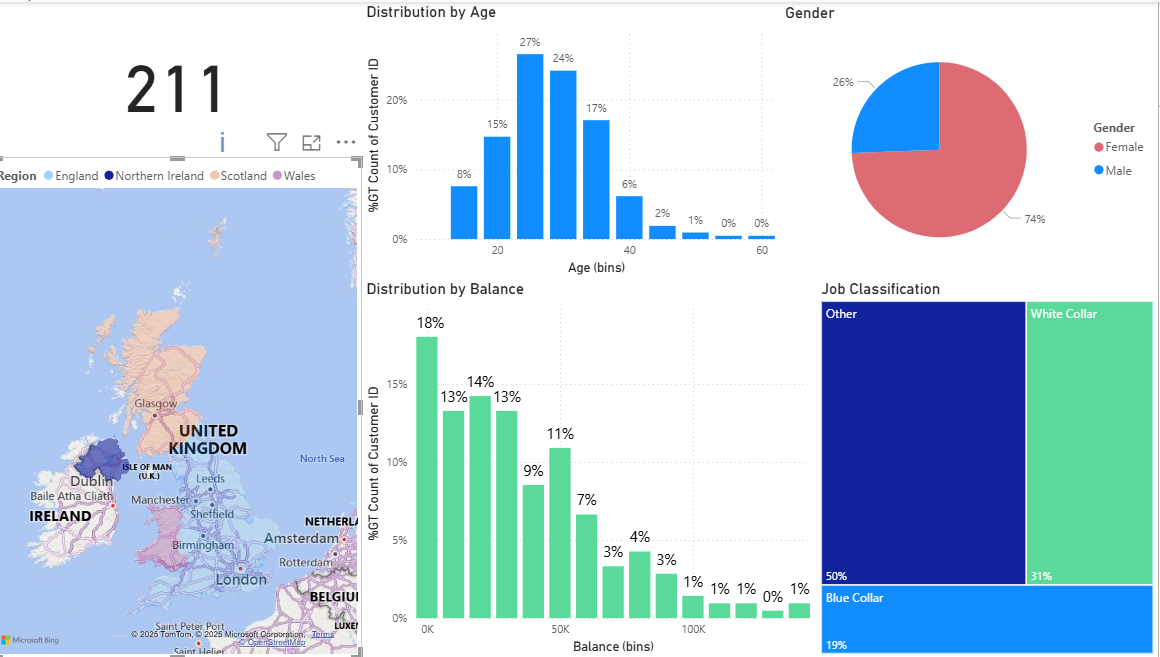

Layout of this report page (visuals, bound fields, positions):
{"tool":"powerbi","page":{"name":"BI report","canvas":[1280,720],"ordinal":5},"visuals":[{"type":"filledMap","fields":{"Series":["S05-CreatingInteractiveBIReport UK-Bank-Customers.Region"],"Category":["S05-CreatingInteractiveBIReport UK-Bank-Customers.Region"]},"box":[0,170,405.7,550],"z":0},{"type":"card","fields":{"Values":["CountNonNull(S05-CreatingInteractiveBIReport UK-Bank-Customers.Customer ID)"]},"box":[0,0,405.7,170],"z":1000},{"type":"pieChart","title":"Gender","fields":{"Category":["S05-CreatingInteractiveBIReport UK-Bank-Customers.Gender"],"Y":["CountNonNull(S05-CreatingInteractiveBIReport UK-Bank-Customers.Customer ID)"]},"box":[865.7,1.4,414.3,302.9],"z":2000},{"type":"columnChart","title":"Distribution by Age","fields":{"Category":["S05-CreatingInteractiveBIReport UK-Bank-Customers.Age (bins)"],"Y":["CountNonNull(S05-CreatingInteractiveBIReport UK-Bank-Customers.Customer ID)"]},"box":[405.7,0,460,304.3],"z":3000},{"type":"columnChart","title":"Distribution by Balance","fields":{"Category":["S05-CreatingInteractiveBIReport UK-Bank-Customers.Balance (bins)"],"Y":["CountNonNull(S05-CreatingInteractiveBIReport UK-Bank-Customers.Customer ID)"]},"box":[405.7,304.3,500,415.7],"z":4000},{"type":"treemap","title":"Job Classification","fields":{"Group":["S05-CreatingInteractiveBIReport UK-Bank-Customers.Job Classification"],"Values":["CountNonNull(S05-CreatingInteractiveBIReport UK-Bank-Customers.Customer ID)"]},"box":[905.7,304.3,374.3,415.7],"z":5000}]}

Visuals, with their boxes on the page's 1280x720 design canvas (x1, y1, x2, y2). These are canvas units, not pixel positions in the 1160x657 screenshot, which may show the page scaled, cropped or inside an application window:
filledMap - S05-CreatingInteractiveBIReport UK-Bank-Customers.Region x S05-CreatingInteractiveBIReport UK-Bank-Customers.Region: {"x1": 0, "y1": 170, "x2": 406, "y2": 720}
card - CountNonNull(S05-CreatingInteractiveBIReport UK-Bank-Customers.Customer ID): {"x1": 0, "y1": 0, "x2": 406, "y2": 170}
"Gender" pieChart: {"x1": 866, "y1": 1, "x2": 1280, "y2": 304}
"Distribution by Age" columnChart: {"x1": 406, "y1": 0, "x2": 866, "y2": 304}
"Distribution by Balance" columnChart: {"x1": 406, "y1": 304, "x2": 906, "y2": 720}
"Job Classification" treemap: {"x1": 906, "y1": 304, "x2": 1280, "y2": 720}
